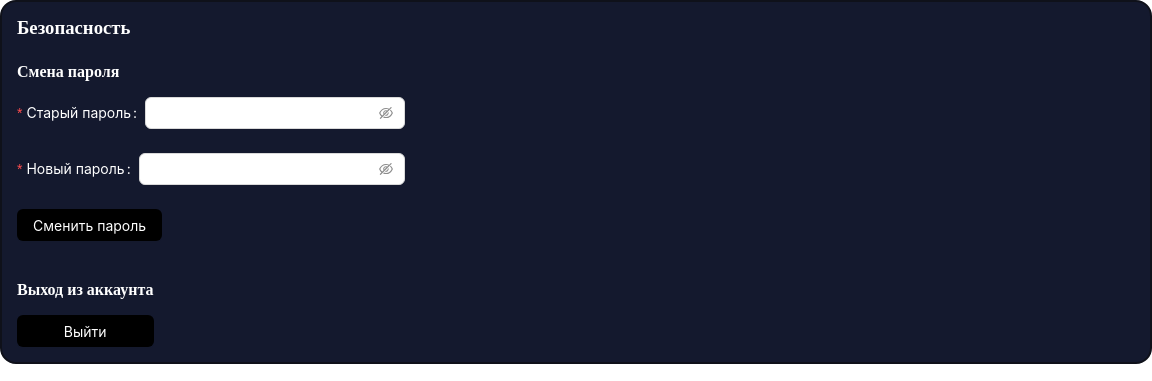
Test case: SecuritySettings tests › displays error if data is empty
Click the button "Сменить пароль".
click(90, 225)  # box [17,209,162,241]
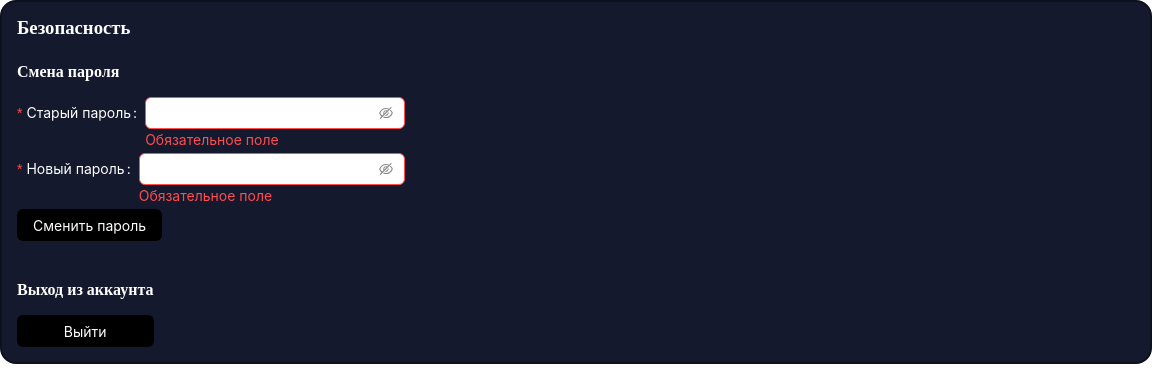
Check: the text "Обязательное поле" is shown 2 times, box [145,131,279,148]; [139,187,272,204]
